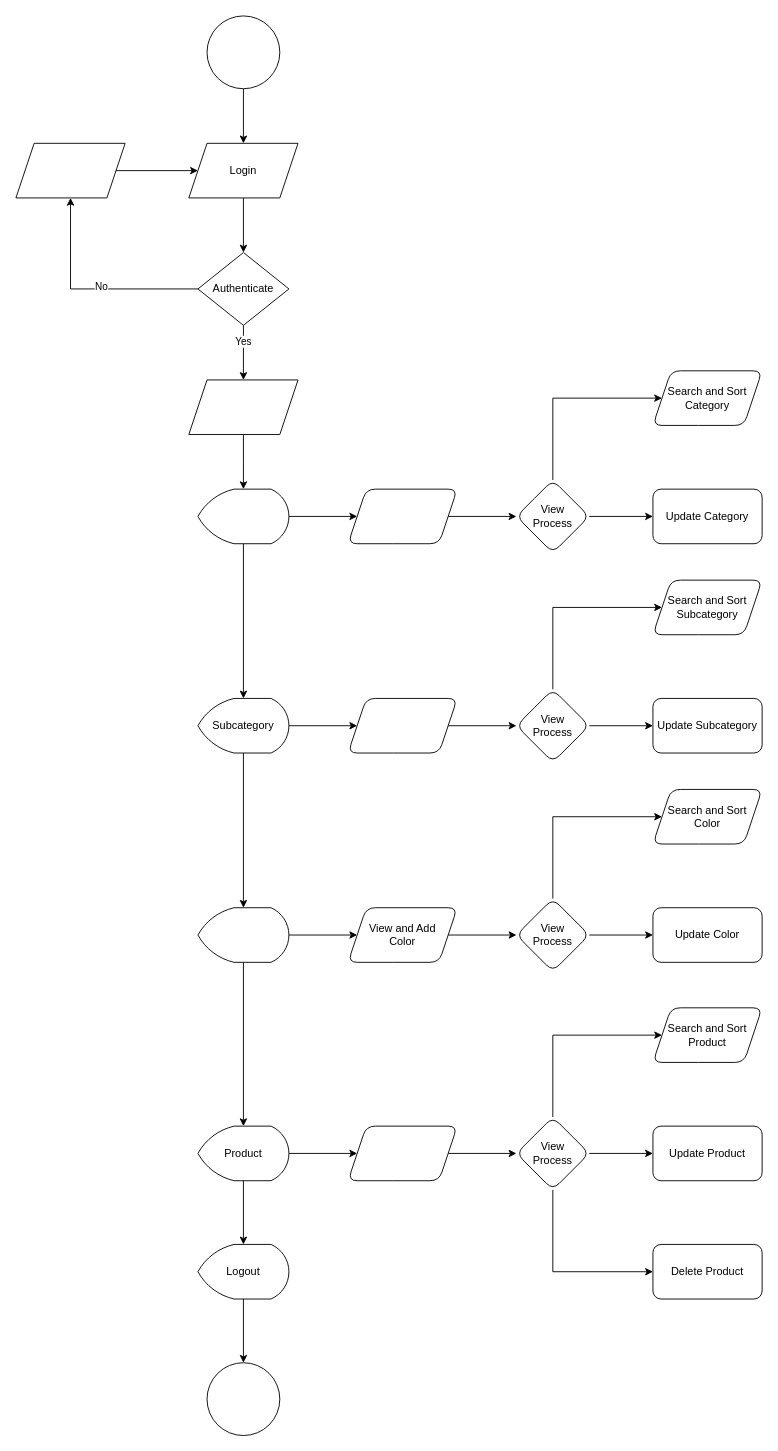
Image size: 778x1451. Some labels were removed from this diagram. Each missing label, with the box of its shape:
Category: (197, 488, 289, 544)
Color: (197, 907, 289, 962)
End: (206, 1362, 280, 1436)
Home: (188, 379, 298, 435)
Register: (15, 142, 125, 198)
Start: (206, 15, 280, 89)
View and Add Category: (347, 488, 457, 544)
View and Add Product: (347, 1125, 457, 1181)
View and Add Subcategory: (347, 698, 457, 753)
